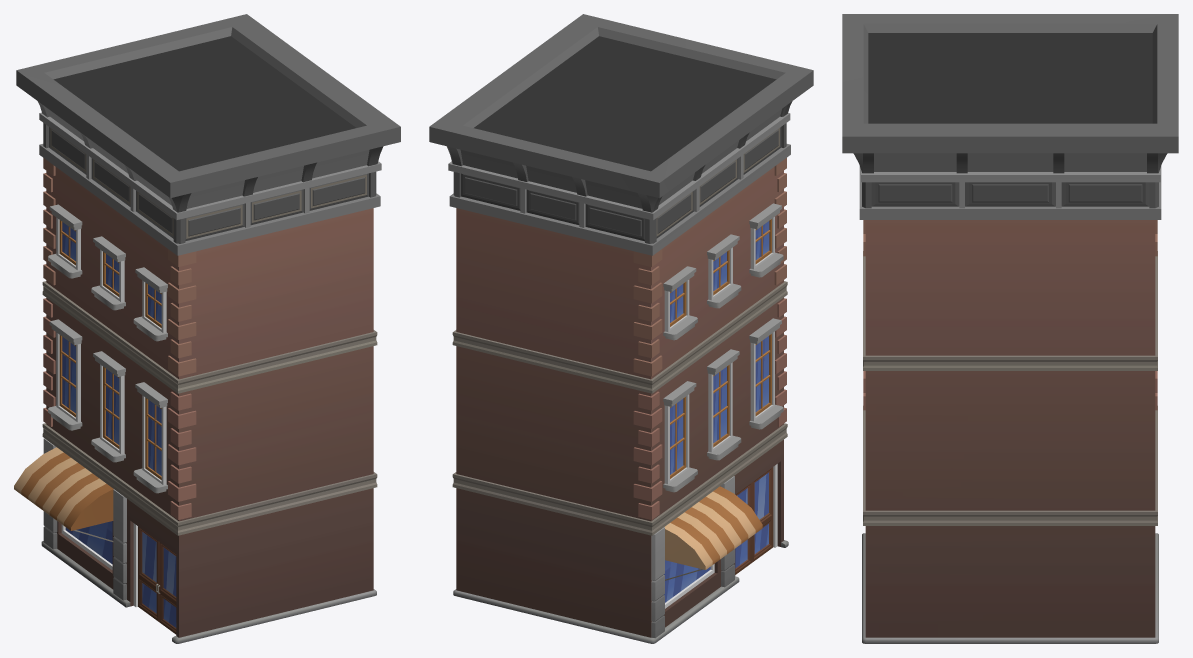
File: Building_8_2_D.fbx
The picture shows the model from 3 angles, left to right: view 1: azimuth 30°, elevation 25°; view 2: azimuth 150°, elevation 25°; view 3: azimuth 270°, elevation 25°; orthographic projection. The views are drawn at different scales.
Parts seen in each view (by area): view 1: Building 8_2_D; view 2: Building 8_2_D; view 3: Building 8_2_D.
Part boxes in pixels (box(x1,y1,x2,y2)): Building 8_2_D: box(14, 14, 400, 643); Building 8_2_D: box(429, 14, 813, 643); Building 8_2_D: box(842, 14, 1178, 643).
Bounding box in the file's own units: 720 × 1276 × 755.
